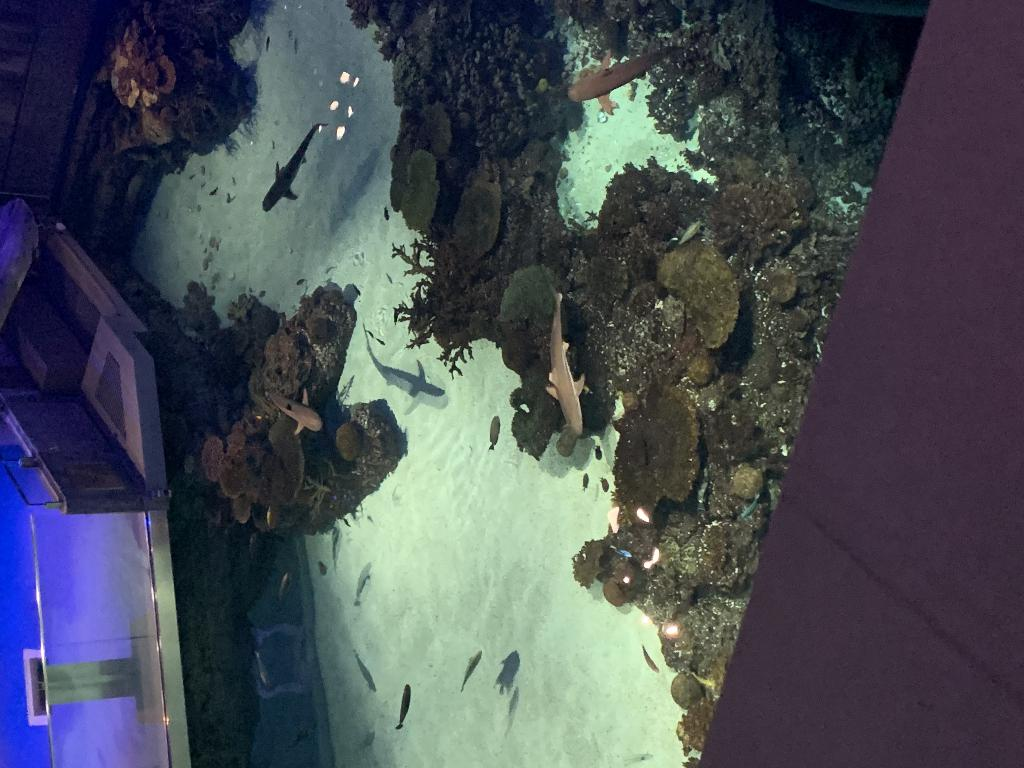Shark: (544, 276, 585, 435), (269, 376, 322, 436)
